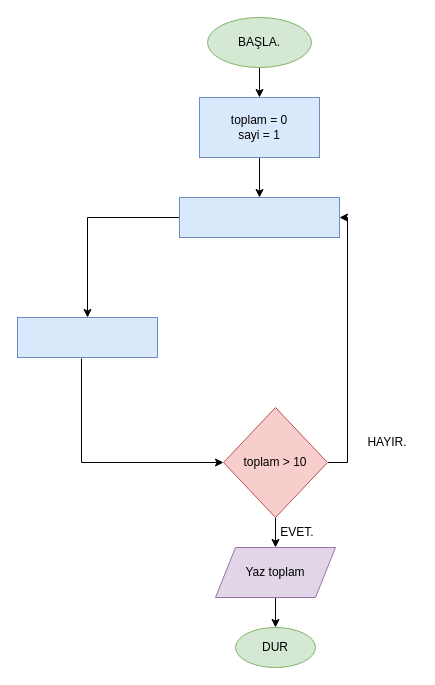
The diagram is 435 pixels wide and 685 high, and some of its shapes have lost their labels. The shapes that lost their labels are listed below. From the top down, each one's centre as x and y in pixels, then its label:
the point at 259,217: toplam = toplam + sayi
the point at 87,337: sayi = sayi + 1
